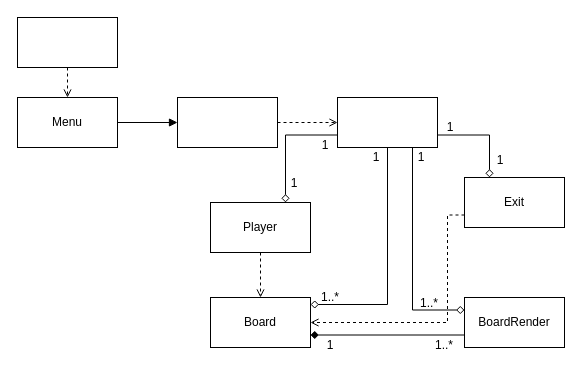
This 582x373 diagram has some shape labels left out. The shapes that lost their labels are listed below. From the top down, each one's centre as x and y in pixels, then its label:
At [67,42]: "Program".
At [227,122]: "MenuOptions".
At [387,122]: "Game".
